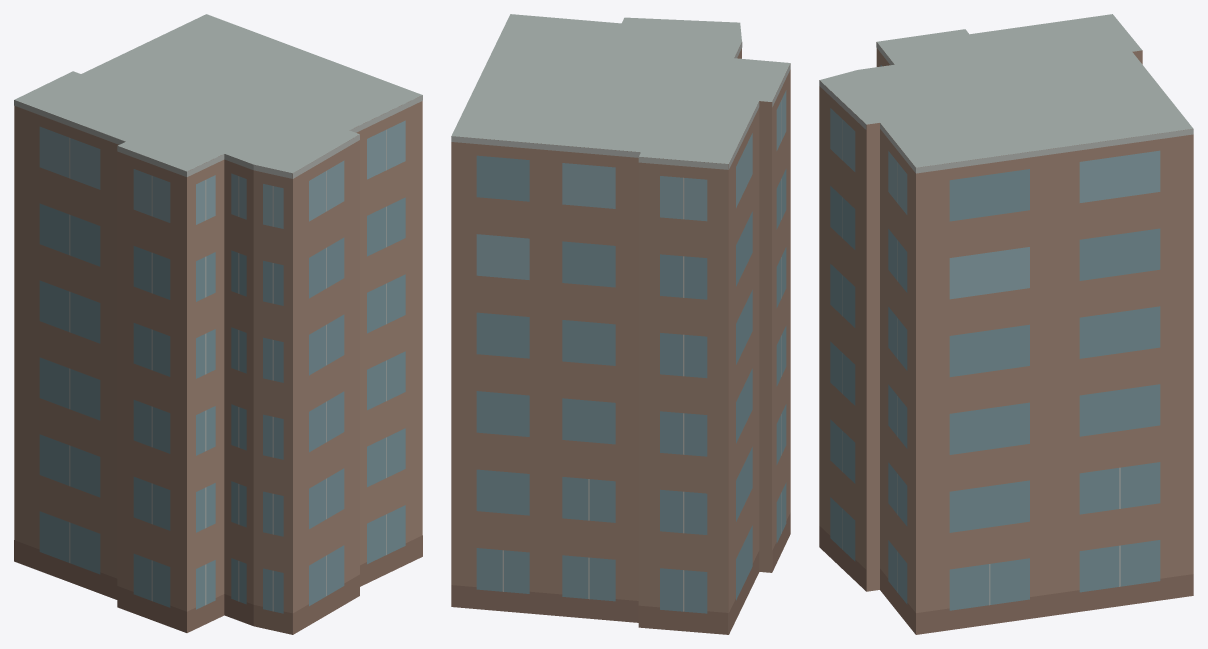
The model's file is survey-upis-32748145.glb.
The picture shows the model from 3 angles, left to right: view 1: azimuth 30°, elevation 25°; view 2: azimuth 150°, elevation 25°; view 3: azimuth 270°, elevation 25°; orthographic projection.
Visible parts, largest first — view 1: survey-upis-32748145.tmp; view 2: survey-upis-32748145.tmp; view 3: survey-upis-32748145.tmp.
Part boxes in pixels (bbox=[...]): survey-upis-32748145.tmp: bbox=[14, 14, 422, 634]; survey-upis-32748145.tmp: bbox=[451, 14, 790, 634]; survey-upis-32748145.tmp: bbox=[819, 14, 1193, 634].
Size of the model in its own units: 13.92 by 19.7 by 14.31.
